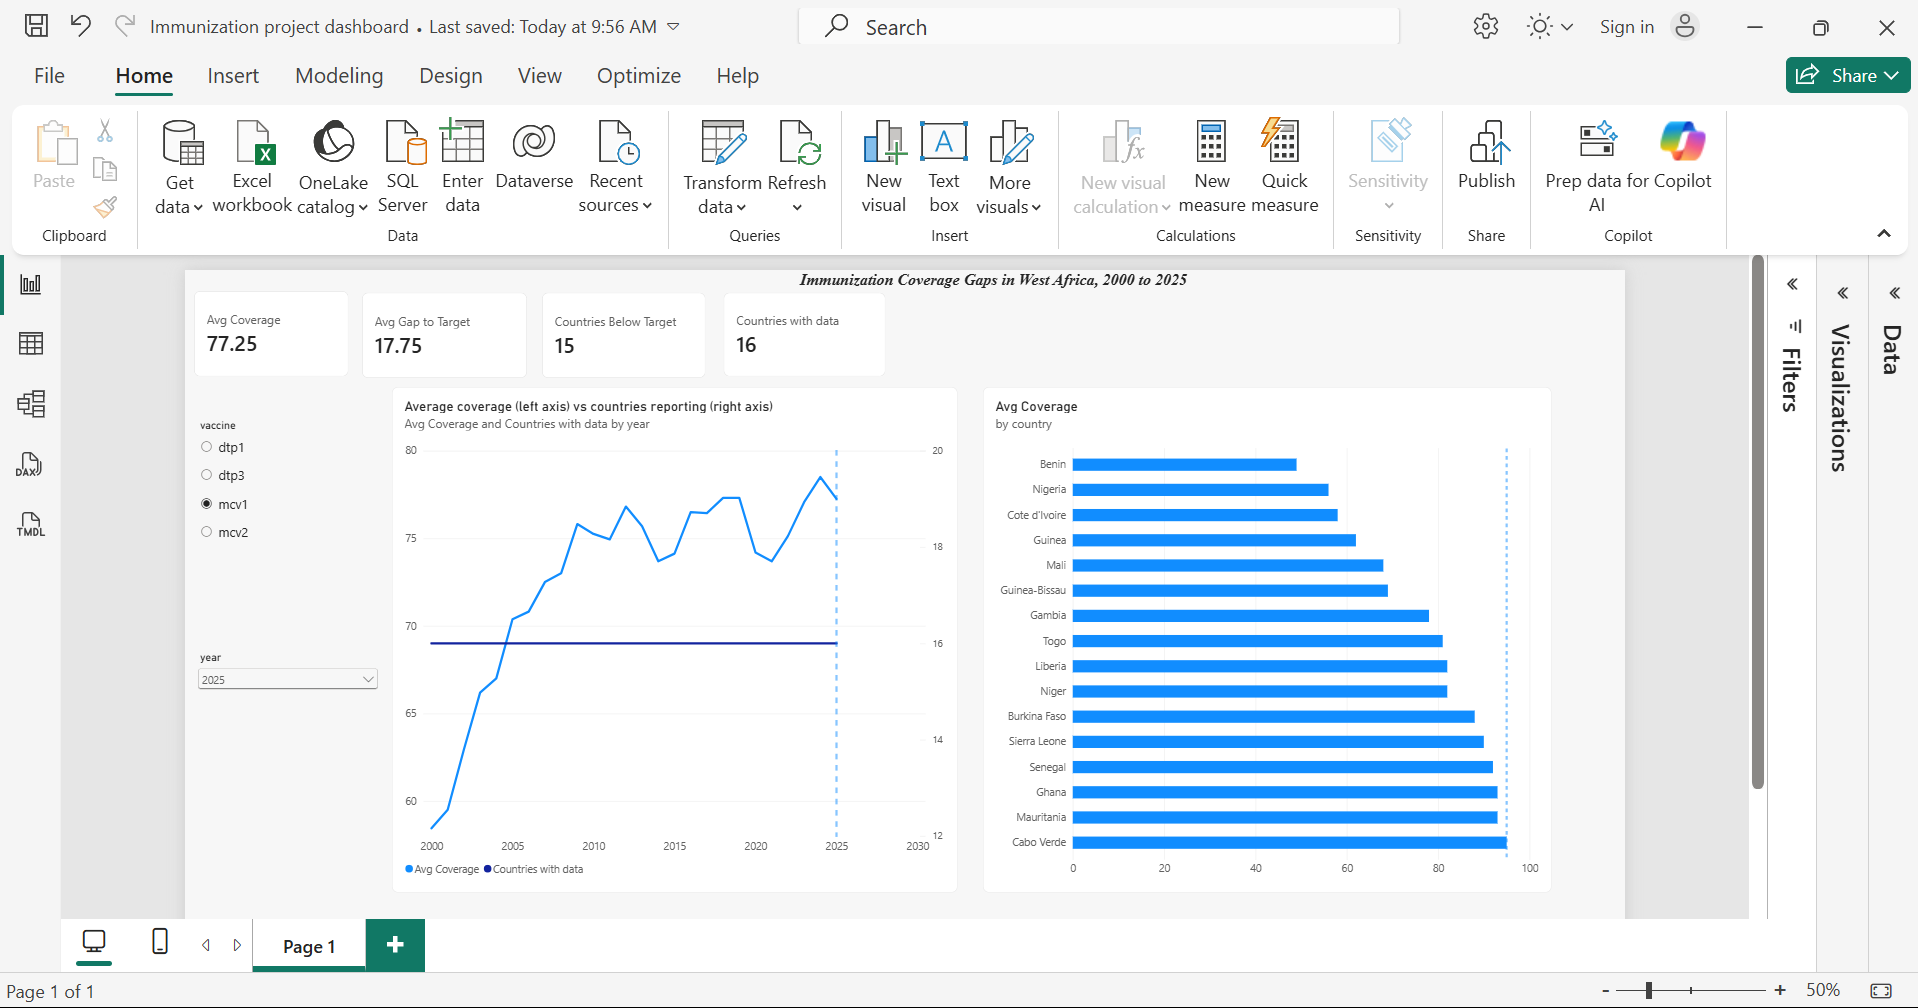

This screenshot's page, from the dashboard's own definition file:
{"tool":"powerbi","page":{"name":"Page 1","canvas":[1920,1080],"ordinal":0},"visuals":[{"type":"slicer","fields":{"Values":["wuenic_west_africa_long.vaccine"]},"box":[12,198,250,256],"z":0},{"type":"slicer","fields":{"Values":["wuenic_west_africa_long.year"]},"box":[12,508,250,122],"z":1000},{"type":"cardVisual","fields":{"Data":["wuenic_west_africa_long.Avg Coverage"]},"box":[12,28,206,114],"z":2000},{"type":"cardVisual","fields":{"Data":["wuenic_west_africa_long.Avg Gap to Target"]},"box":[236,30,220,114],"z":3000},{"type":"cardVisual","fields":{"Data":["wuenic_west_africa_long.Countries Below Target"]},"box":[476,30,218,114],"z":4000},{"type":"clusteredBarChart","fields":{"Category":["wuenic_west_africa_long.country"],"Y":["wuenic_west_africa_long.Avg Coverage"]},"box":[1064,156,758,674],"z":5000},{"type":"lineChart","title":"Average coverage (left axis) vs countries reporting (right axis)","fields":{"Category":["wuenic_west_africa_long.year"],"Y":["wuenic_west_africa_long.Avg Coverage"],"Y2":["wuenic_west_africa_long.Countries with data"]},"box":[276,156,754,674],"z":6000},{"type":"textbox","box":[1540,156,380,674],"z":7000},{"type":"textbox","box":[524,0,1108,58],"z":8000},{"type":"cardVisual","fields":{"Data":["wuenic_west_africa_long.Countries with data"]},"box":[718,30,216,112],"z":8001}]}

Visuals, with their boxes on the page's 1920x1080 design canvas (x1, y1, x2, y2). These are canvas units, not pixel positions in the 1918x1008 screenshot, which may show the page scaled, cropped or inside an application window:
slicer - wuenic_west_africa_long.vaccine: x1=12, y1=198, x2=262, y2=454
slicer - wuenic_west_africa_long.year: x1=12, y1=508, x2=262, y2=630
cardVisual - wuenic_west_africa_long.Avg Coverage: x1=12, y1=28, x2=218, y2=142
cardVisual - wuenic_west_africa_long.Avg Gap to Target: x1=236, y1=30, x2=456, y2=144
cardVisual - wuenic_west_africa_long.Countries Below Target: x1=476, y1=30, x2=694, y2=144
clusteredBarChart - wuenic_west_africa_long.country x wuenic_west_africa_long.Avg Coverage: x1=1064, y1=156, x2=1822, y2=830
"Average coverage (left axis) vs countries reporting (right axis)" lineChart: x1=276, y1=156, x2=1030, y2=830
textbox: x1=1540, y1=156, x2=1920, y2=830
textbox: x1=524, y1=0, x2=1632, y2=58
cardVisual - wuenic_west_africa_long.Countries with data: x1=718, y1=30, x2=934, y2=142
